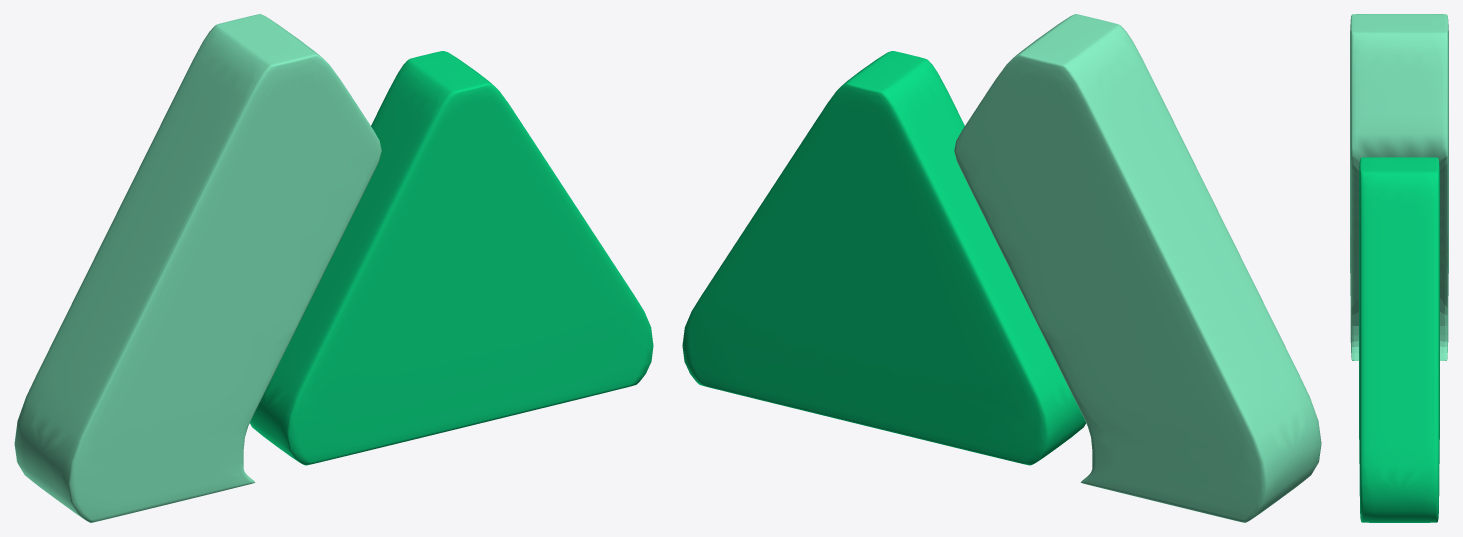
The model's file is nuxt.gltf.
The picture shows the model from 3 angles, left to right: view 1: azimuth 30°, elevation 25°; view 2: azimuth 150°, elevation 25°; view 3: azimuth 270°, elevation 25°; orthographic projection. The views are drawn at different scales.
Visible parts, largest first — view 1: Nuxt; view 2: Nuxt; view 3: Nuxt.
Boxes of the visible parts, bbox=[...] form: Nuxt: bbox=[14, 14, 653, 522]; Nuxt: bbox=[682, 14, 1321, 522]; Nuxt: bbox=[1350, 14, 1448, 522].
Bounding box in the file's own units: 0.5659 × 0.3787 × 0.0956.
